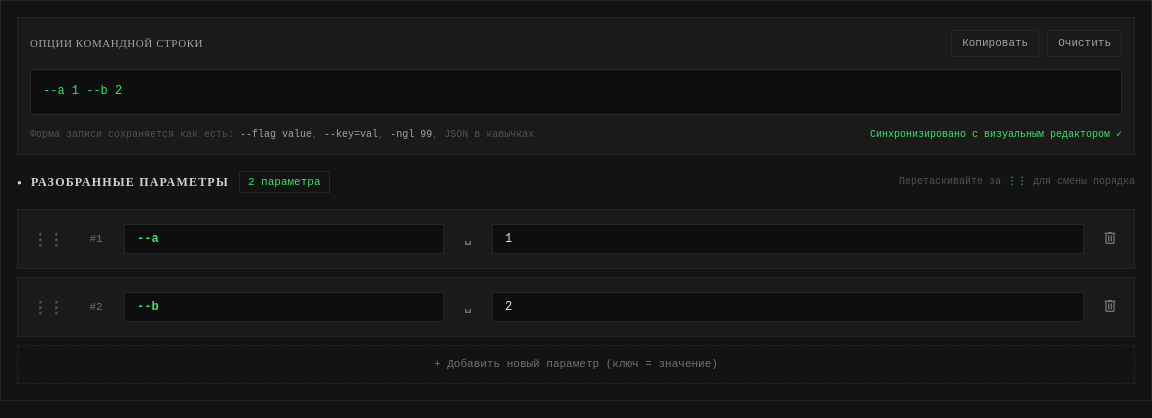
it: ArgvEditor › удаление и добавление
This screenshot has width=1152, height=418.
Click the button named "Удалить #1" at (1110, 239), box [1096,220,1124,258]
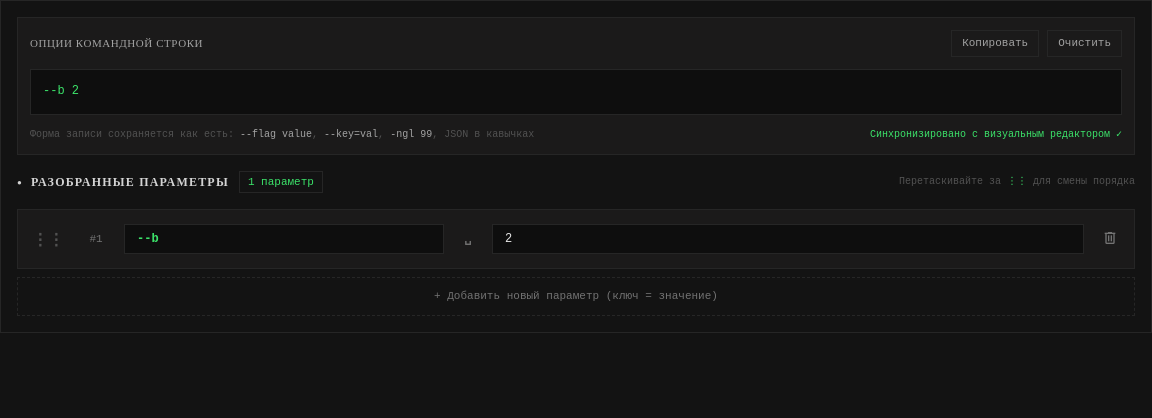
Check: the text box with test id "argv-editor-raw" holds "--b 2", box [30,68,1122,114]
Click the button "+ Добавить новый параметр (ключ = значение)" at (576, 296), box [17,277,1135,316]
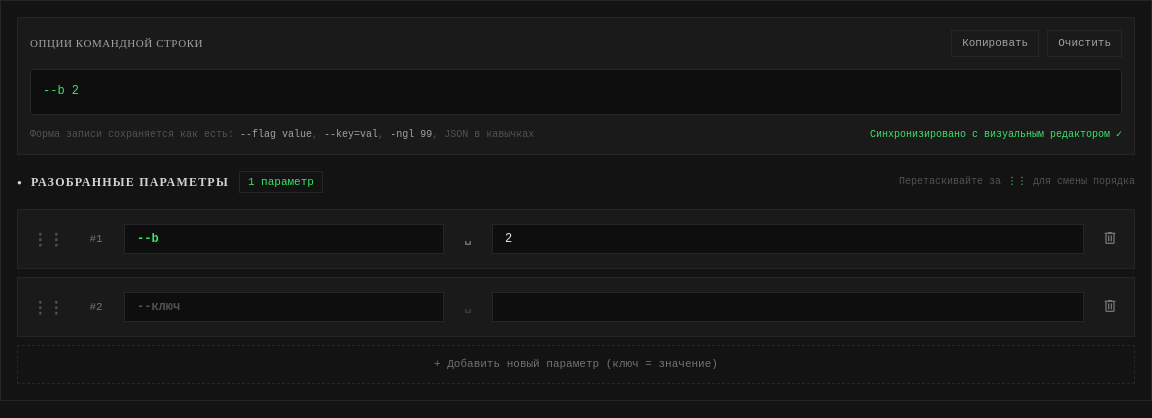
Type "--prefill-chunk" into the field named "Ключ #2" at (284, 307), box [124,292,444,322]
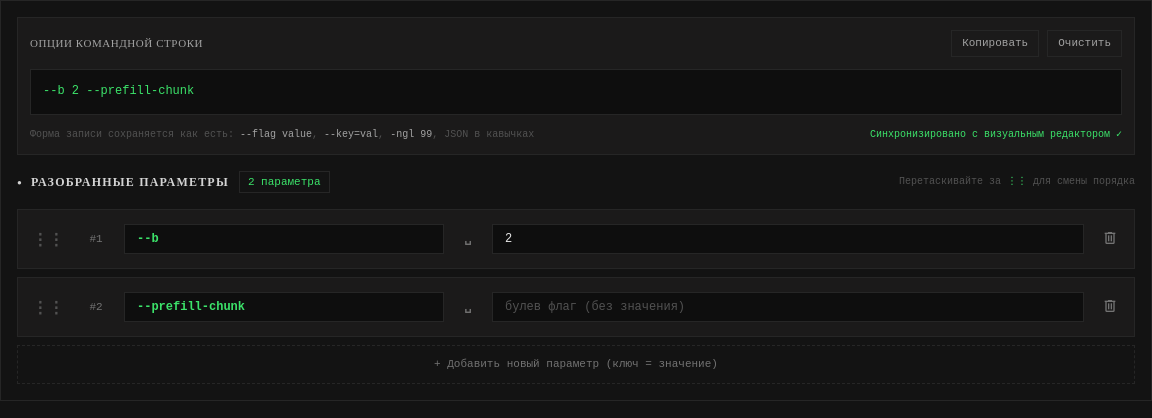
Type "4096" into the field named "Значение #2" at (788, 307), box [492,292,1084,322]
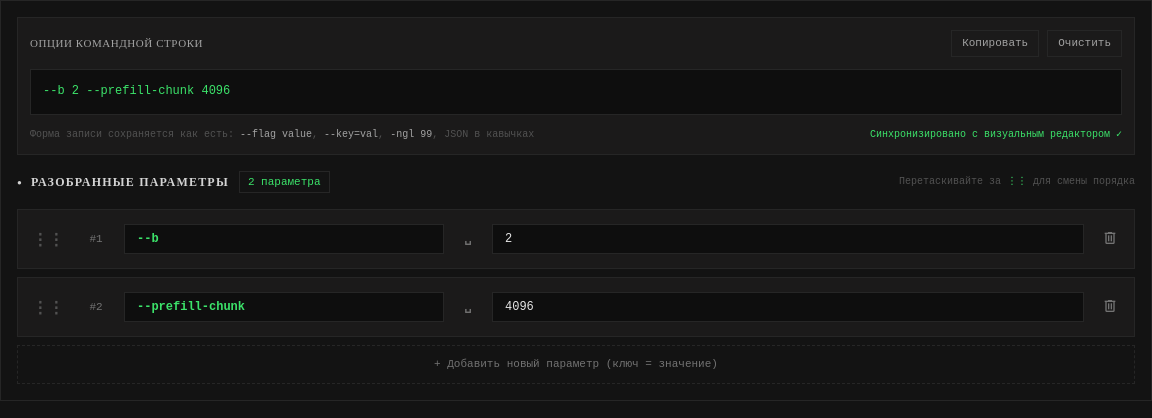
Check: the text box with test id "argv-editor-raw" holds "--b 2 --prefill-chunk 4096", box [30,68,1122,114]
